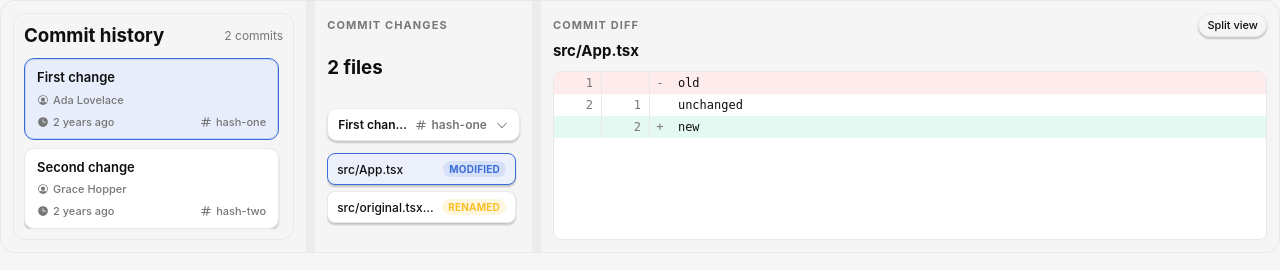
Test: RepositoryDetailCommitsTab › auto-selects the first file, loads its diff, and flips view modes
This screenshot has width=1280, height=270.
Expected: the element named "unified diff" shows "old", [678,76,700,90]
Click the button "Split view".
click(1233, 25)  # box [1198,13,1267,37]
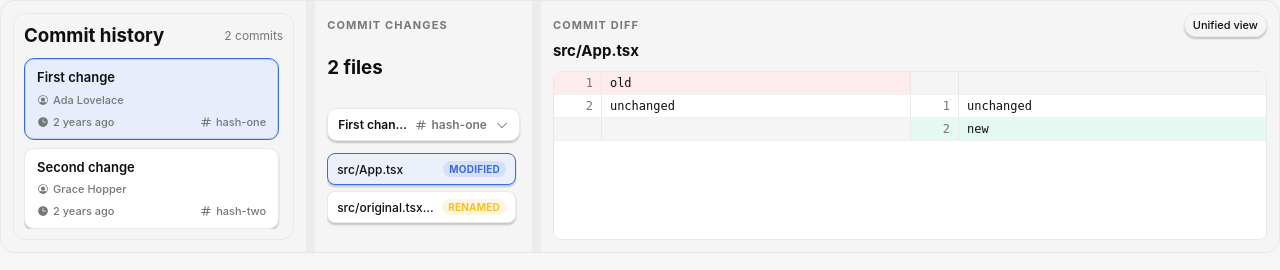
Expected: the element named "split diff" shows "new", [967,122,989,136]
Click the button "Unified view".
click(1225, 25)  # box [1184,13,1267,37]
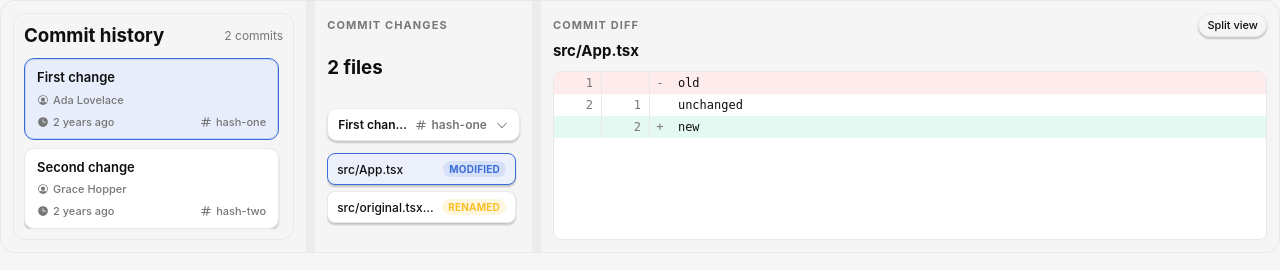
Result: the element named "unified diff" is shown at [553,70,1267,240]
